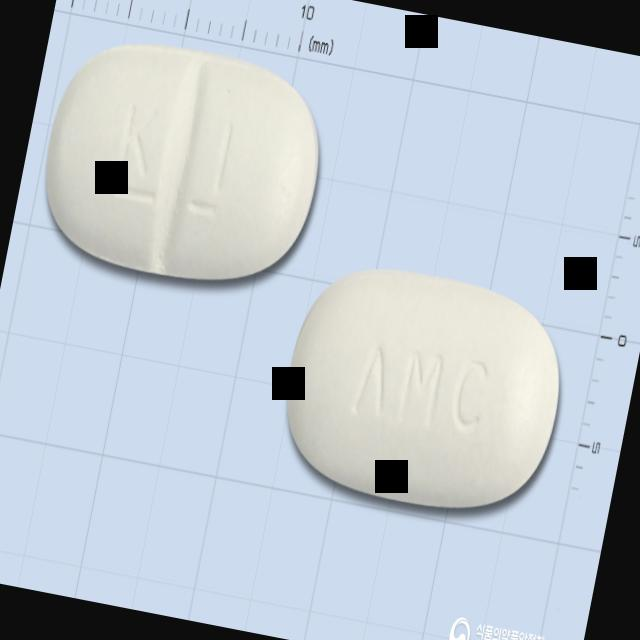Amocla Duo500mg: (28, 21, 340, 307), (268, 253, 579, 529)
